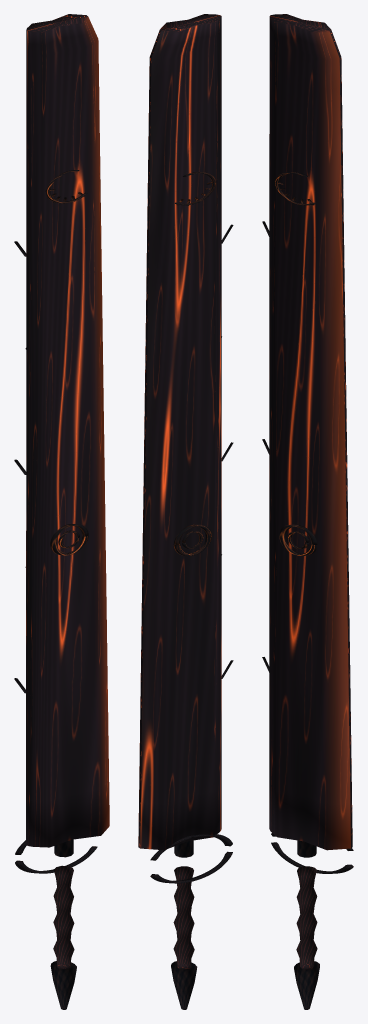
Rendered from sword_10_soul_devourer.glb.
The picture shows the model from 3 angles, left to right: view 1: azimuth 30°, elevation 25°; view 2: azimuth 210°, elevation 25°; view 3: azimuth 330°, elevation 25°; orthographic projection.
Visible parts, largest first — view 1: Blade_DevourerMass, Grip_DevourerWrap, Pommel_FurnaceBulb, Well_SoulPit, Guard_JawMaw, Maw_DevourerTeeth, Core_HellmouthEmber; view 2: Blade_DevourerMass, Grip_DevourerWrap, Pommel_FurnaceBulb, Guard_JawMaw, Well_SoulPit, Maw_DevourerTeeth, Core_HellmouthEmber; view 3: Blade_DevourerMass, Grip_DevourerWrap, Pommel_FurnaceBulb, Well_SoulPit, Guard_JawMaw, Maw_DevourerTeeth, Core_HellmouthEmber.
Boxes of the visible parts, box(x1,y1,x2,y2) form: Blade_DevourerMass: box(26, 14, 109, 847); Grip_DevourerWrap: box(53, 865, 74, 969); Pommel_FurnaceBulb: box(50, 961, 76, 1009); Well_SoulPit: box(50, 523, 88, 555); Guard_JawMaw: box(15, 840, 97, 873); Maw_DevourerTeeth: box(45, 170, 87, 203); Core_HellmouthEmber: box(54, 839, 73, 857); Blade_DevourerMass: box(138, 14, 221, 850); Grip_DevourerWrap: box(173, 866, 194, 969); Pommel_FurnaceBulb: box(171, 961, 197, 1009); Guard_JawMaw: box(150, 834, 232, 883); Well_SoulPit: box(173, 524, 211, 555); Maw_DevourerTeeth: box(175, 172, 216, 205); Core_HellmouthEmber: box(174, 840, 193, 857); Blade_DevourerMass: box(269, 14, 352, 850); Grip_DevourerWrap: box(296, 866, 317, 969); Pommel_FurnaceBulb: box(294, 961, 319, 1009); Well_SoulPit: box(279, 524, 317, 555); Guard_JawMaw: box(271, 833, 353, 873); Maw_DevourerTeeth: box(274, 172, 316, 205); Core_HellmouthEmber: box(297, 840, 316, 857).
Size of the model in its own units: 0.2546 by 2.6 by 0.0834.
Materials: 1 (1 with a texture image).
